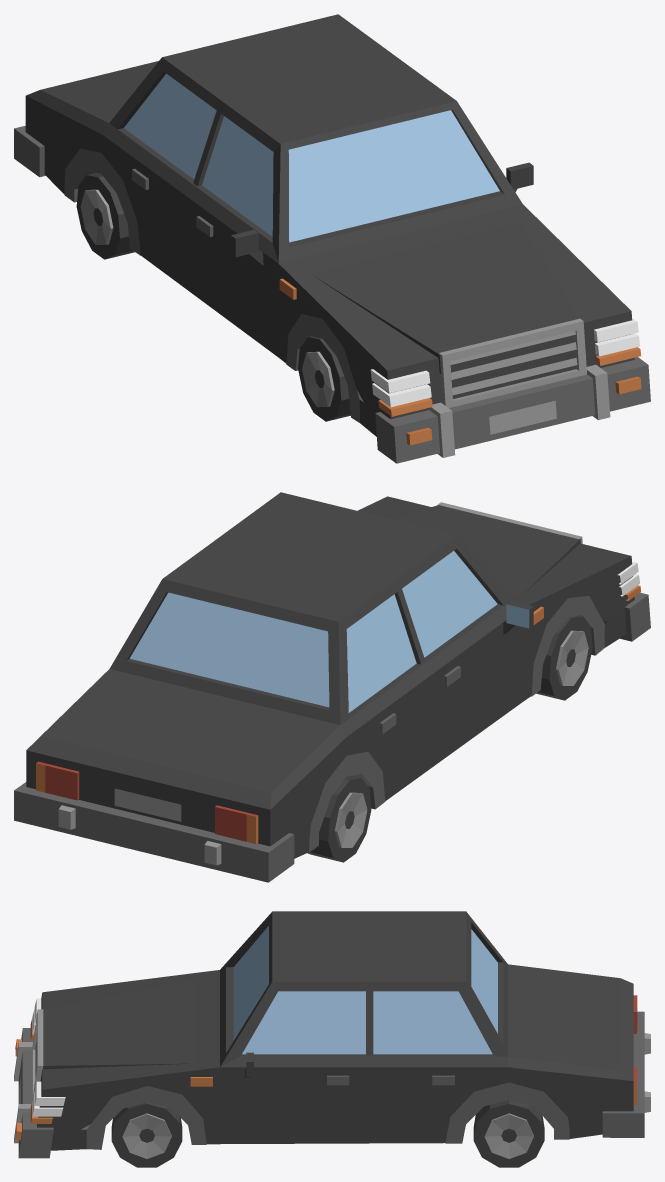
File: transport_cool_003.fbx
3 renders of one model, top to bottom at view 1: azimuth 30°, elevation 25°; view 2: azimuth 150°, elevation 25°; view 3: azimuth 270°, elevation 25°, orthographic. The views are drawn at different scales.
Visible parts, largest first — view 1: transport_cool_003; view 2: transport_cool_003; view 3: transport_cool_003.
Boxes of the visible parts, bbox=[...] form: transport_cool_003: bbox=[14, 14, 650, 463]; transport_cool_003: bbox=[14, 492, 650, 882]; transport_cool_003: bbox=[14, 911, 650, 1167].
Size of the model in its own units: 148 by 98.74 by 334.
